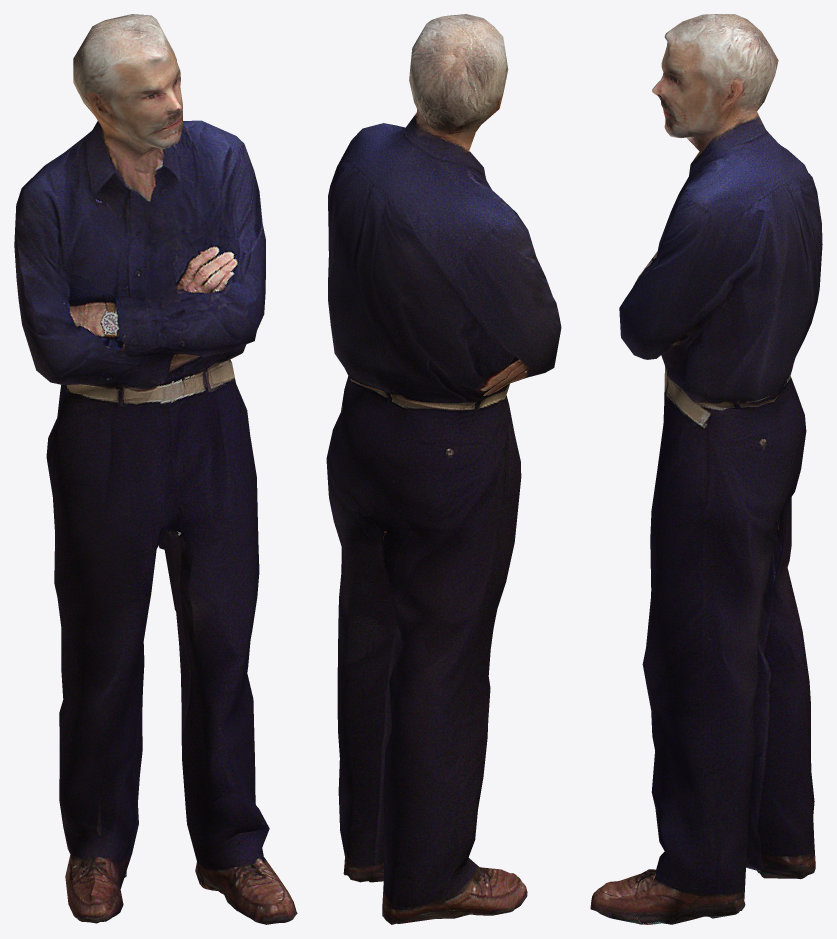
The model's file is oldman.dae.
3 renders of one model, left to right at view 1: azimuth 30°, elevation 25°; view 2: azimuth 150°, elevation 25°; view 3: azimuth 270°, elevation 25°, orthographic. The views are drawn at different scales.
Visible parts, largest first — view 1: _3d_people; view 2: _3d_people; view 3: _3d_people.
Part boxes in pixels (x1=…): _3d_people: x1=14, y1=14, x2=297, y2=924; _3d_people: x1=326, y1=14, x2=561, y2=924; _3d_people: x1=590, y1=14, x2=822, y2=924.
Size of the model in its own units: 18.93 by 17.63 by 71.92.
1 material, 1 textured.
